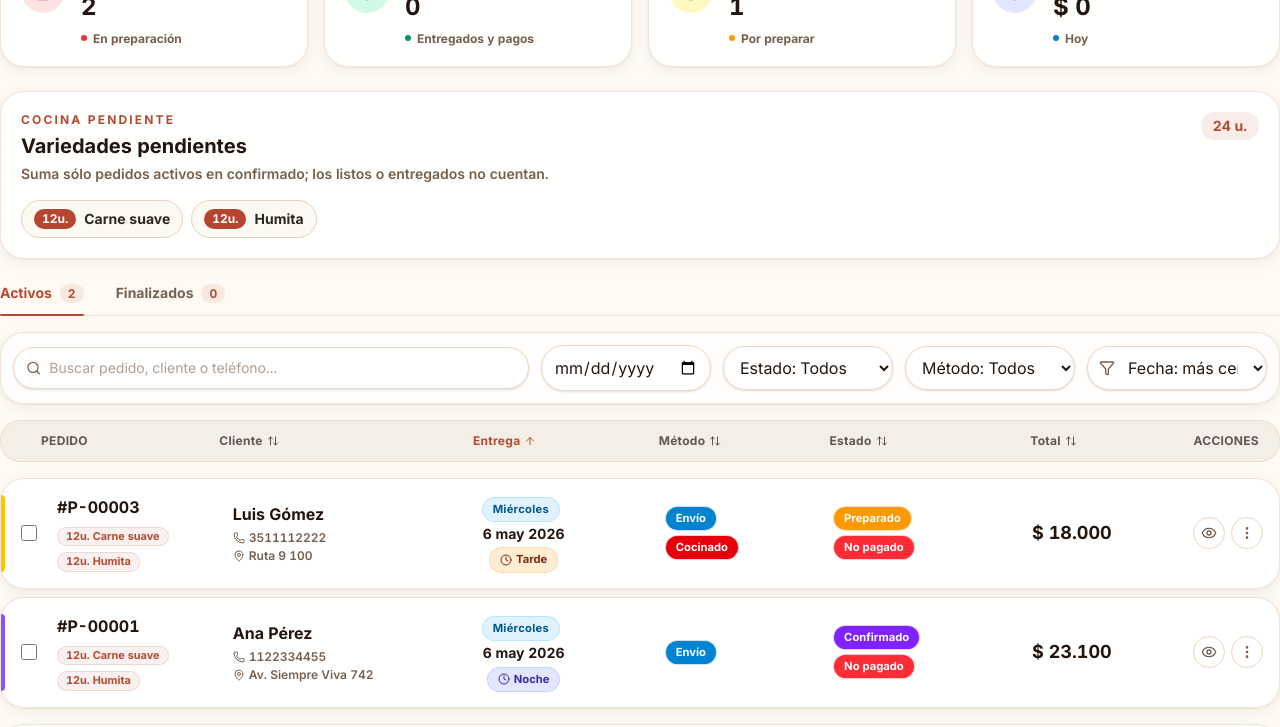
Test: OrdersPage › opens the selected order detail in a desktop drawer and updates it when selecting another order
(page scrolled)
Expected: the text "Ana Pérez" is shown, [233,623,312,643]
Click the button named "ver detalle" next to "$ 23.100": point(1209, 652) [1193,636,1225,668]
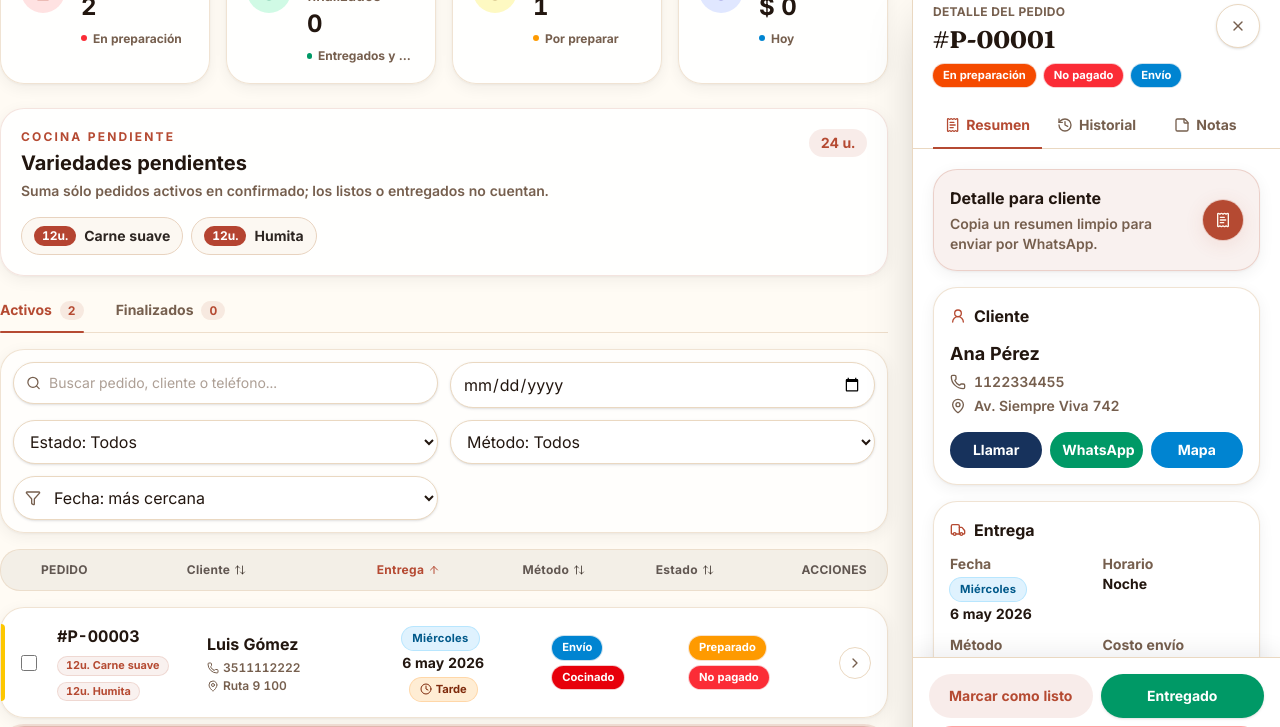
Expected: the heading "#P-00001" is shown, [933,25,1056,54]
Click the button named "ver detalle": point(855, 663) [839,647,871,679]
(page scrolled)
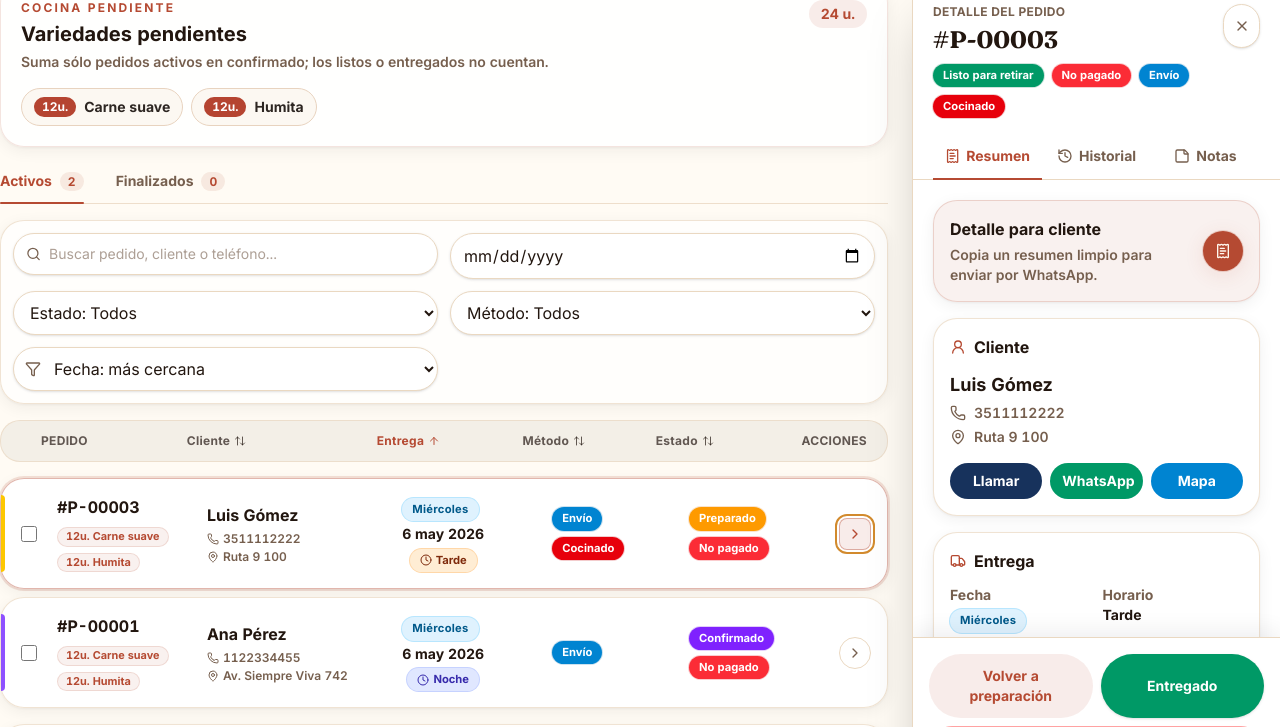
Expected: the heading "#P-00003" is shown, [933,25,1058,54]
